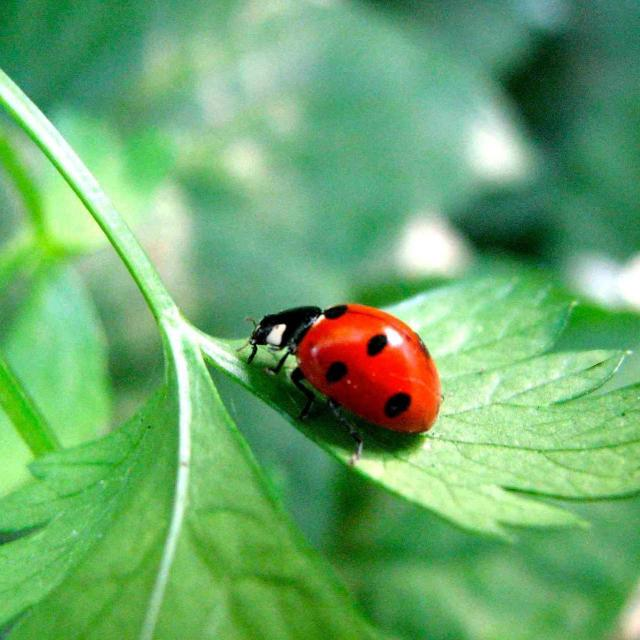ladybug: (247, 304, 441, 464)
